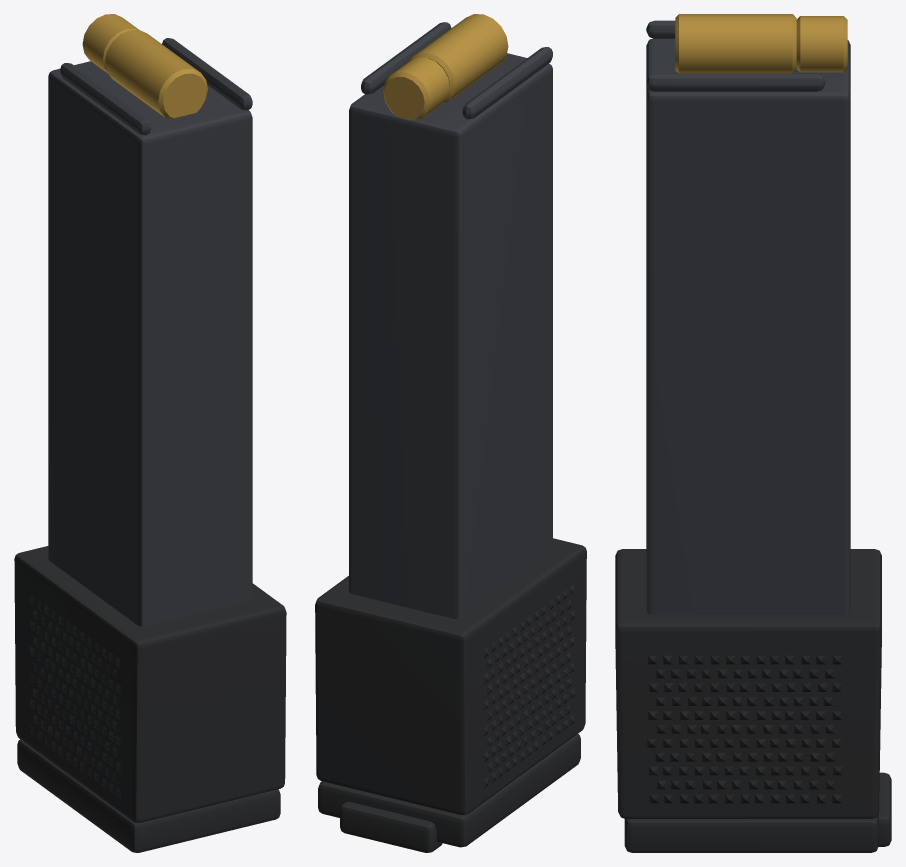
The model's file is mod_p9_extended_mag.glb.
3 views of the same model, side by side, from view 1: azimuth 30°, elevation 25°; view 2: azimuth 150°, elevation 25°; view 3: azimuth 270°, elevation 25° (orthographic). The views are drawn at different scales.
Visible parts, largest first — view 1: Magazine, MagazineRound, MagazineTexture; view 2: Magazine, MagazineRound, MagazineTexture; view 3: Magazine, MagazineTexture, MagazineRound.
Boxes of the visible parts, x1=… form: Magazine: x1=14, y1=38, x2=286, y2=852; MagazineRound: x1=82, y1=14, x2=207, y2=118; MagazineTexture: x1=29, y1=594, x2=121, y2=798; Magazine: x1=315, y1=22, x2=586, y2=852; MagazineRound: x1=383, y1=14, x2=508, y2=119; MagazineTexture: x1=483, y1=585, x2=574, y2=788; Magazine: x1=615, y1=20, x2=891, y2=852; MagazineTexture: x1=647, y1=655, x2=842, y2=803; MagazineRound: x1=675, y1=14, x2=847, y2=73.
Size of the model in its own units: 0.0305 by 0.1398 by 0.0433.
